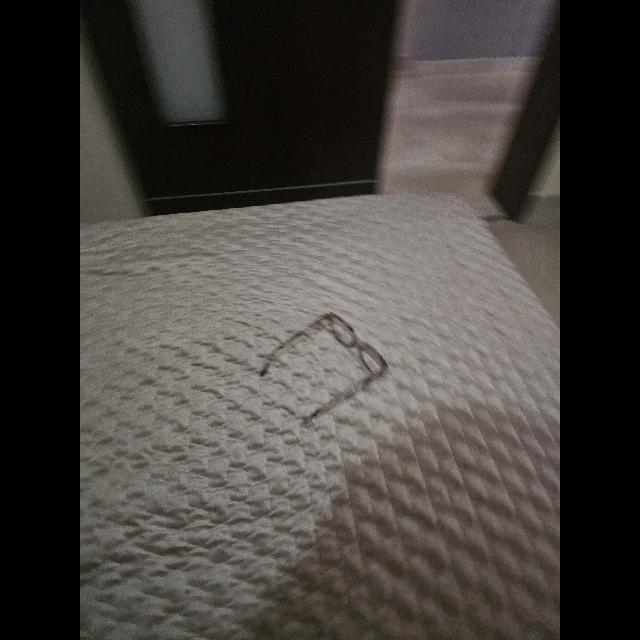glasses: (260, 312, 388, 423)
